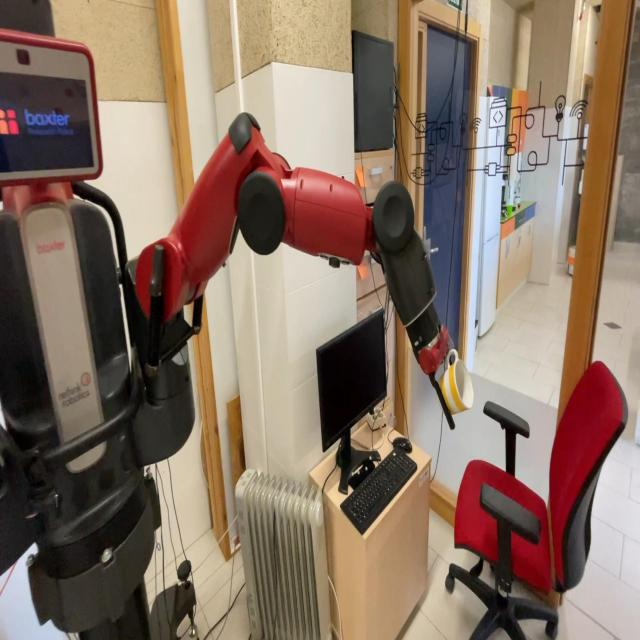cup: (435, 350, 475, 420)
